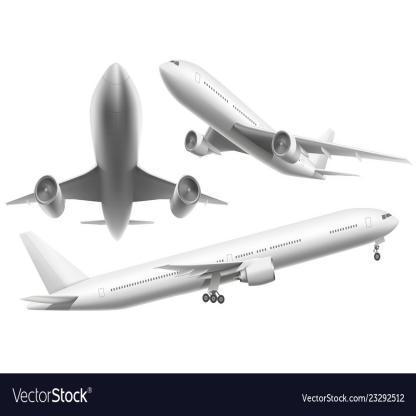CIV_Plane: (6, 206, 402, 316), (0, 48, 227, 220), (152, 54, 412, 193)
